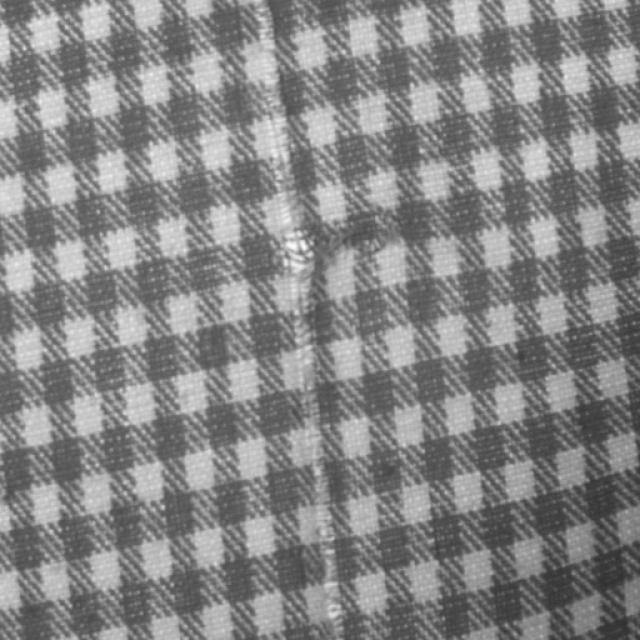Thread-Defect: (249, 6, 339, 639)
